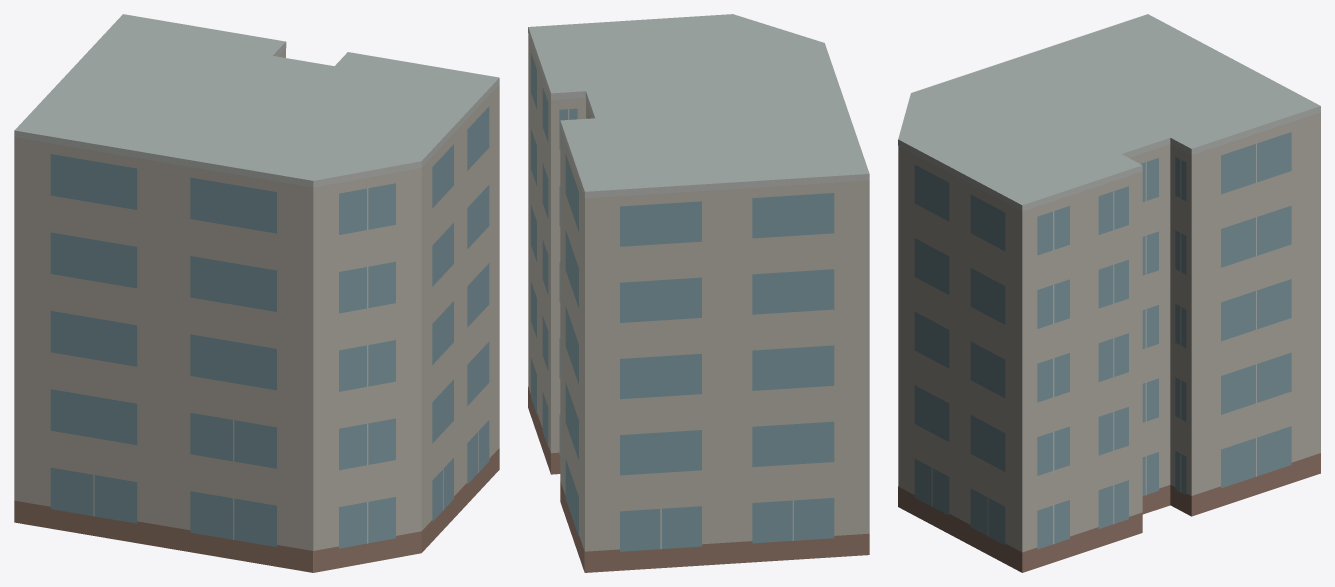
File: survey-upis-32915079.glb
3 views of the same model, side by side, from view 1: azimuth 30°, elevation 25°; view 2: azimuth 150°, elevation 25°; view 3: azimuth 270°, elevation 25° (orthographic). The views are drawn at different scales.
Visible parts, largest first — view 1: survey-upis-32915079.tmp; view 2: survey-upis-32915079.tmp; view 3: survey-upis-32915079.tmp.
Part boxes in pixels (x1,y1,x2,y2): survey-upis-32915079.tmp: [14, 14, 499, 572]; survey-upis-32915079.tmp: [528, 14, 869, 572]; survey-upis-32915079.tmp: [898, 14, 1320, 572].
Bounding box in the file's own units: 16.03 × 14.35 × 14.97.
